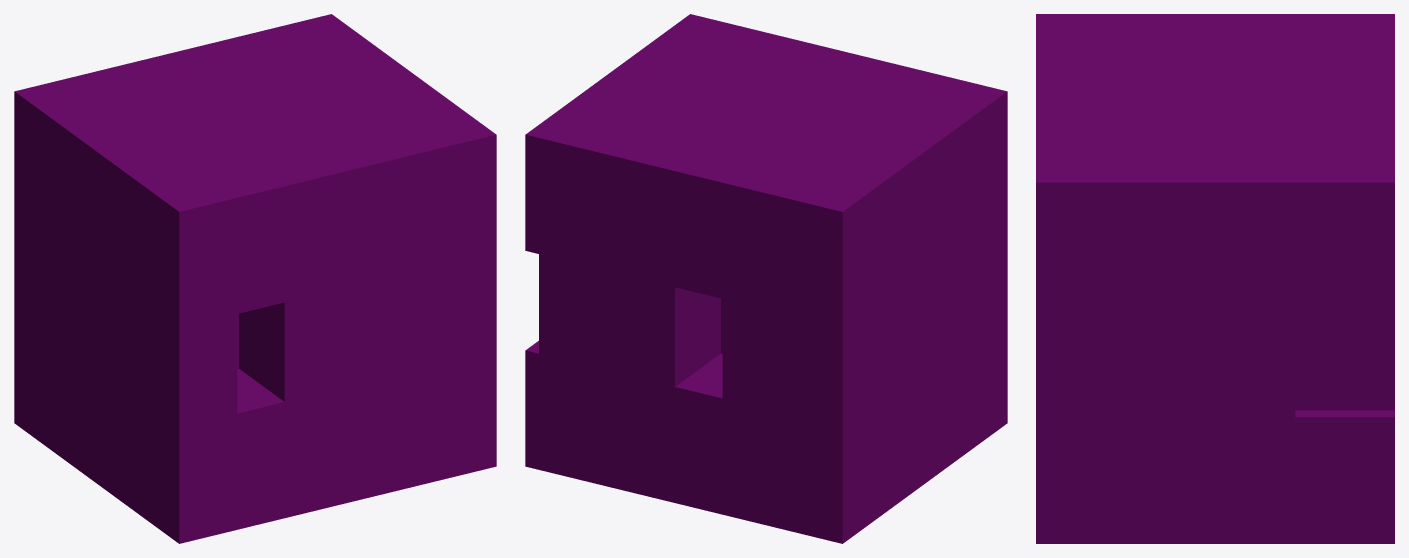
Rendered from Building_02_H_F.fbx.
The picture shows the model from 3 angles, left to right: view 1: azimuth 30°, elevation 25°; view 2: azimuth 150°, elevation 25°; view 3: azimuth 270°, elevation 25°; orthographic projection. The views are drawn at different scales.
Parts seen in each view (by area): view 1: 3, 1, 4, 2; view 2: 4, 2, 3, 1; view 3: 1, 2, 3, 4.
Part boxes in pixels (x1,y1,x2,y2): 3: (97,113,337,543); 1: (256,74,496,504); 4: (14,53,254,483); 2: (173,14,413,112); 4: (684,113,924,543); 2: (525,74,765,504); 3: (767,53,1007,483); 1: (608,14,848,112); 1: (1036,98,1215,543); 2: (1215,98,1394,543); 3: (1036,14,1215,98); 4: (1215,14,1394,98).
Bounding box in the file's own units: 200 × 200 × 180.
